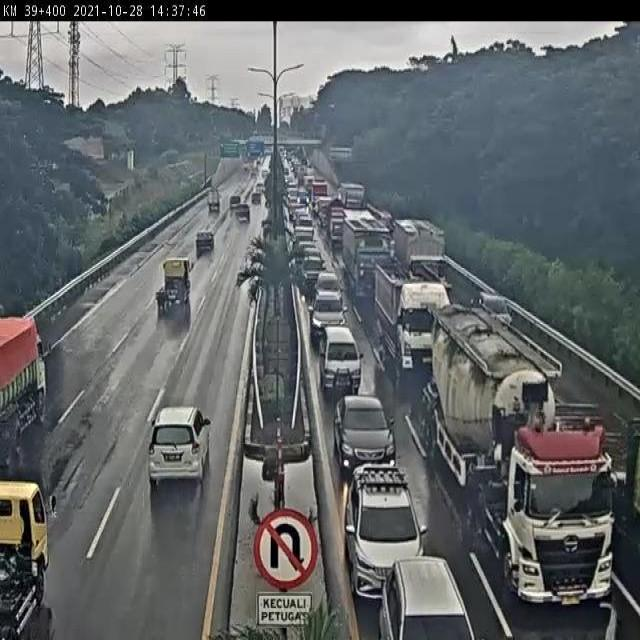big truck: (429, 306, 640, 630), (0, 450, 69, 640), (375, 268, 459, 388), (0, 307, 62, 437), (340, 204, 397, 311), (396, 223, 448, 285)
car: (343, 455, 436, 601), (382, 544, 472, 640), (136, 398, 221, 493), (331, 388, 397, 476), (318, 323, 363, 396), (301, 292, 353, 348), (312, 264, 352, 317), (195, 223, 214, 264)
small truck: (153, 247, 200, 321)
